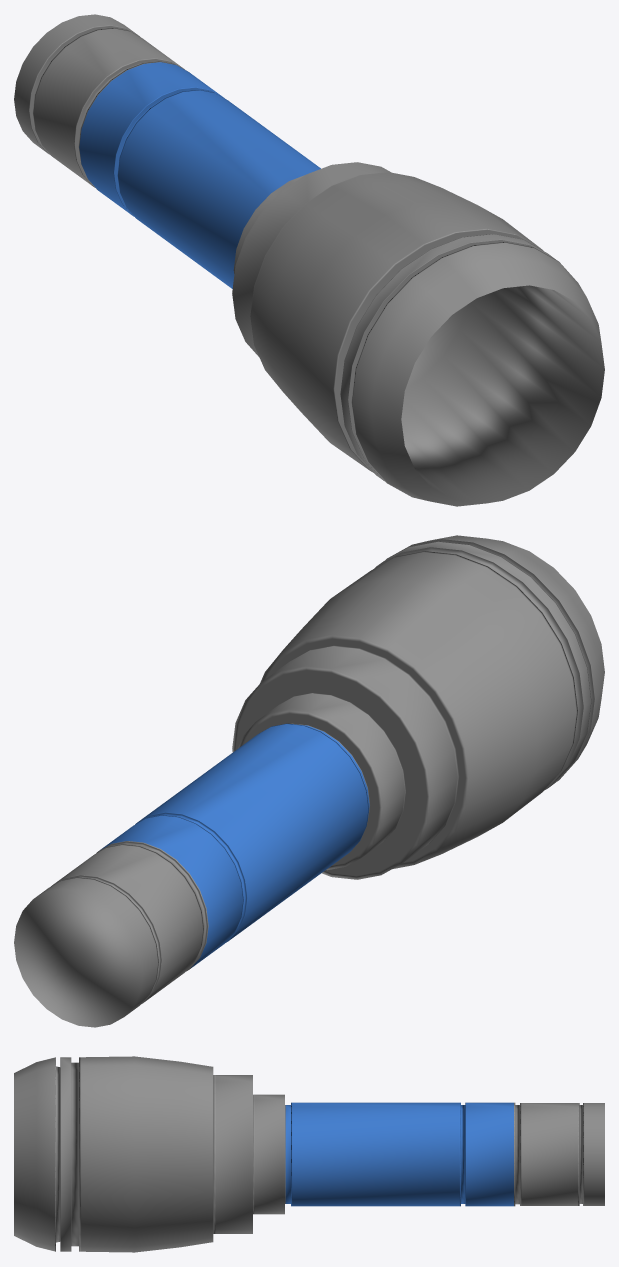
Rendered from linternaflash.fbx.
The picture shows the model from 3 angles, top to bottom: view 1: azimuth 30°, elevation 25°; view 2: azimuth 150°, elevation 25°; view 3: azimuth 270°, elevation 25°; orthographic projection. The views are drawn at different scales.
Parts seen in each view (by area): view 1: exterior; view 2: exterior; view 3: exterior.
Boxes of the visible parts, left/top/right/bottom form: exterior: left=14, top=14, right=604, bottom=506; exterior: left=14, top=535, right=604, bottom=1027; exterior: left=14, top=1056, right=604, bottom=1252.
Bounding box in the file's own units: 6.03 × 6.03 × 18.1.
